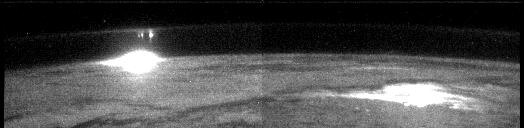positive: (134, 29, 155, 44)
